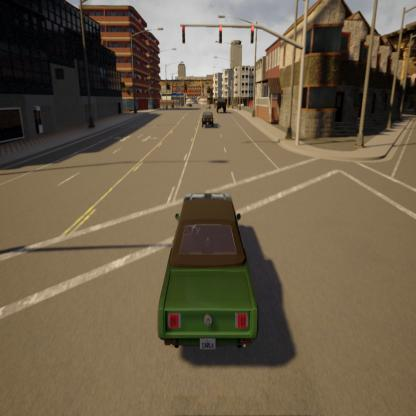Cars: (152, 181, 262, 355), (201, 110, 218, 128), (213, 98, 230, 114)
